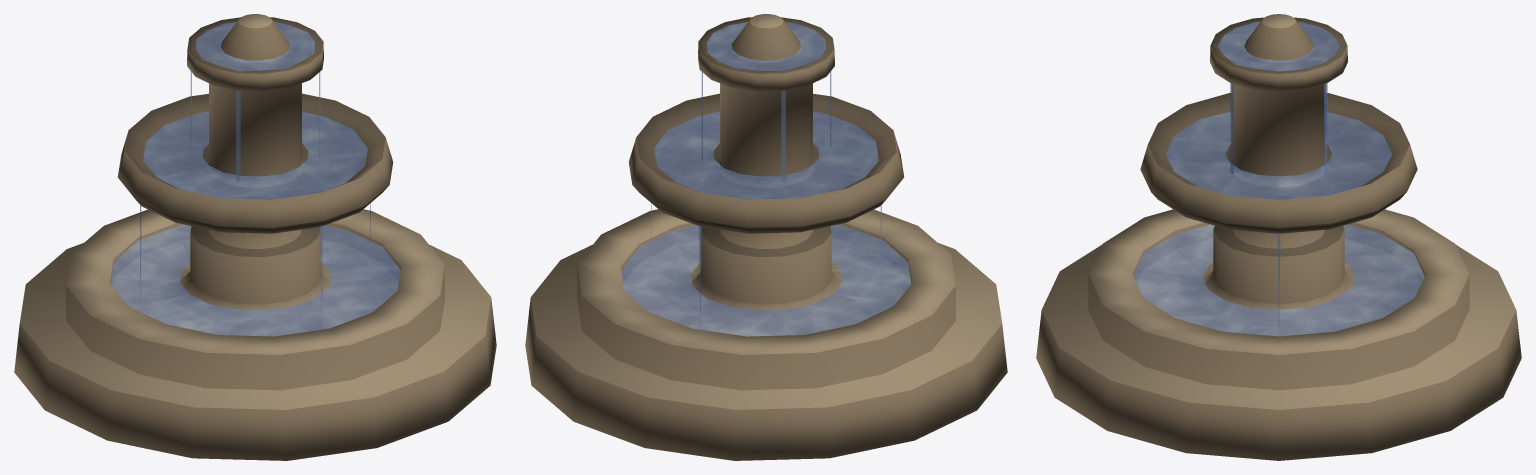
File: desert fountain.glb
3 renders of one model, left to right at view 1: azimuth 30°, elevation 25°; view 2: azimuth 150°, elevation 25°; view 3: azimuth 270°, elevation 25°, orthographic.
Parts seen in each view (by area): view 1: EQ_Desert_Fountain_Stone; view 2: EQ_Desert_Fountain_Stone; view 3: EQ_Desert_Fountain_Stone.
Part boxes in pixels (<box>): EQ_Desert_Fountain_Stone: <box>14,14,496,460</box>; EQ_Desert_Fountain_Stone: <box>525,14,1007,460</box>; EQ_Desert_Fountain_Stone: <box>1036,14,1521,460</box>.
Bounding box in the file's own units: 1.75 × 1.34 × 1.75.
6 materials, 1 textured.
